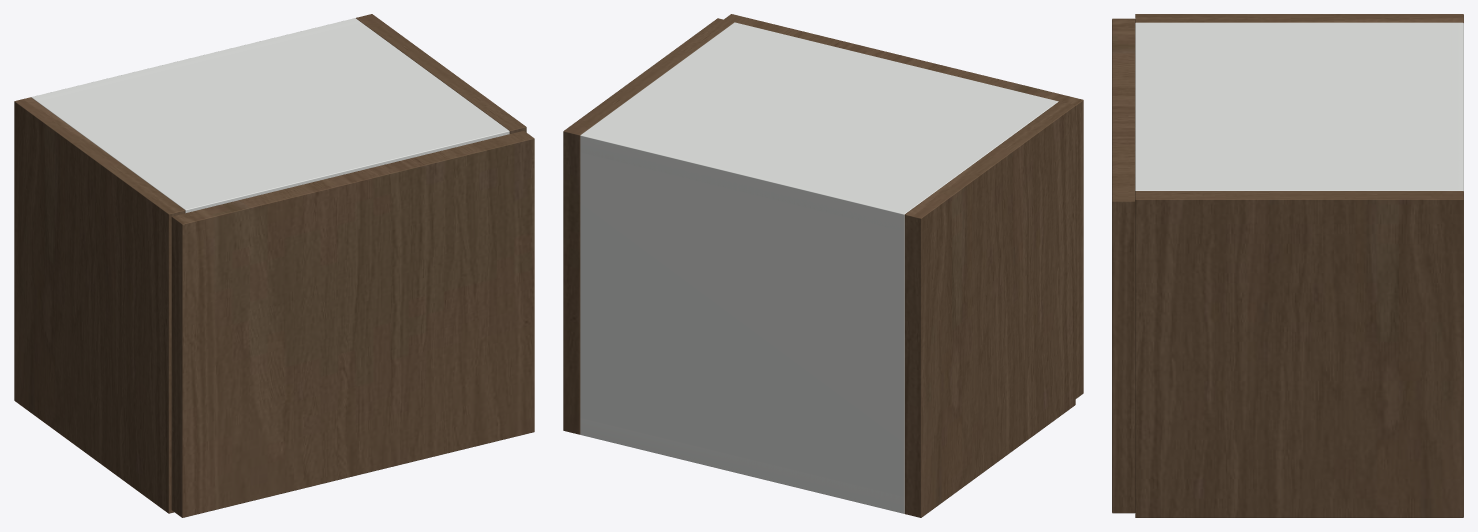
File: oppein-pb-mso-w1512.glb
3 views of the same model, side by side, from view 1: azimuth 30°, elevation 25°; view 2: azimuth 150°, elevation 25°; view 3: azimuth 270°, elevation 25° (orthographic). The views are drawn at different scales.
Visible parts, largest first — view 1: Door, Cabinet side, Cabinet top, Cabinet side.001, Cabinet back; view 2: Cabinet back, Cabinet side, Cabinet top, Cabinet side.001, Door, Cabinet bottom; view 3: Cabinet side.001, Cabinet top, Door, Cabinet side, Cabinet back.
Part boxes in pixels (x1,y1,x2,y2): Door: (171, 130, 534, 517); Cabinet side: (14, 97, 185, 513); Cabinet top: (37, 22, 509, 213); Cabinet side.001: (356, 14, 526, 133); Cabinet back: (31, 18, 360, 101); Cabinet back: (580, 131, 909, 513); Cabinet side: (904, 101, 1075, 517); Cabinet top: (580, 22, 1058, 231); Cabinet side.001: (563, 18, 733, 434); Door: (724, 14, 1083, 398); Cabinet bottom: (580, 418, 904, 513); Cabinet side.001: (1135, 191, 1463, 517); Cabinet top: (1135, 22, 1463, 190); Door: (1112, 18, 1135, 513); Cabinet side: (1135, 14, 1463, 22); Cabinet back: (1450, 22, 1463, 190).
Bounding box in the file's own units: 0.381 × 0.3048 × 0.3048.
2 materials, 1 textured.
